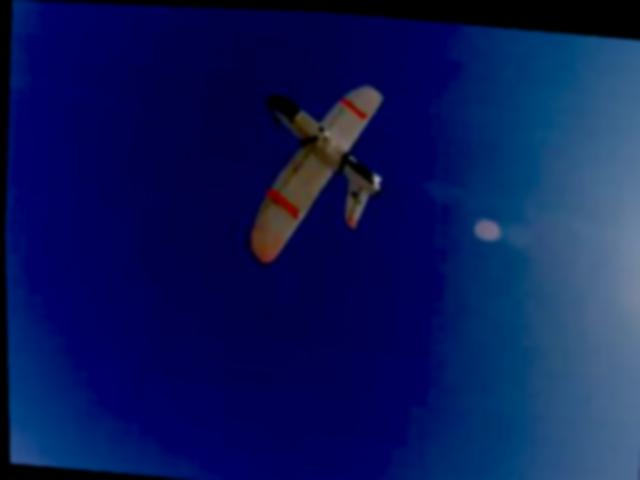uav: (239, 68, 399, 275)
